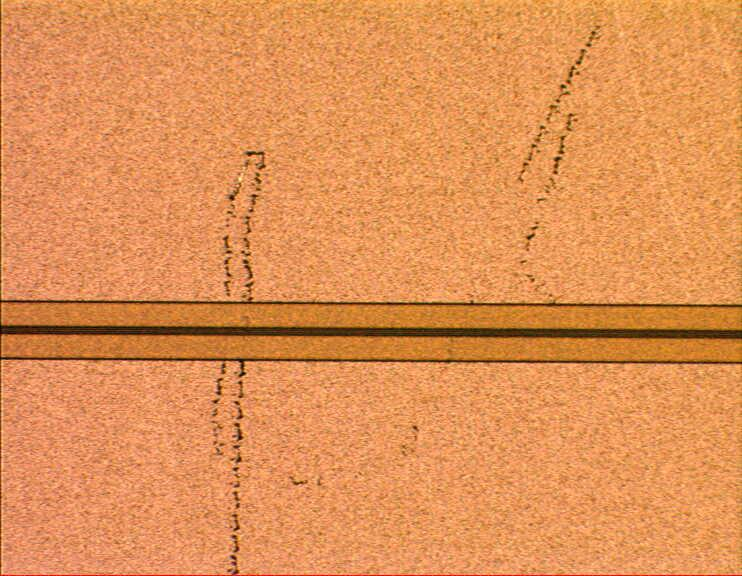SCRATCH: (201, 16, 607, 576)
